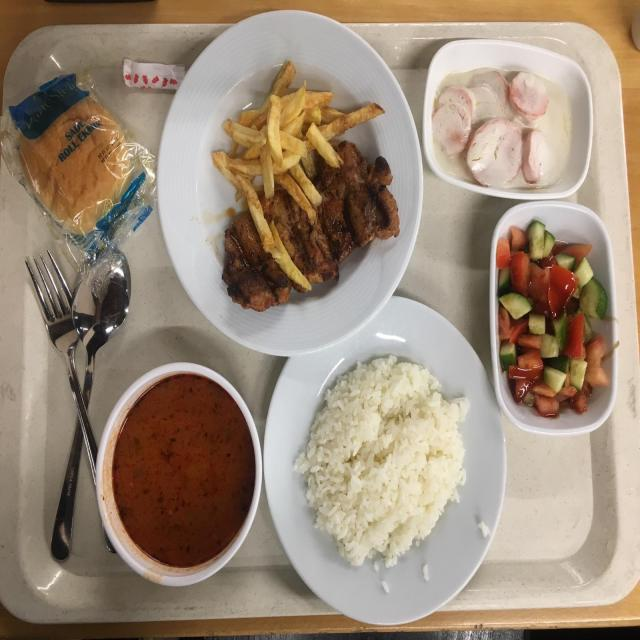ana_yemek: (157, 7, 393, 355), (297, 297, 500, 622)
corba: (94, 361, 260, 586)
yan_yemek: (486, 202, 618, 435), (423, 39, 592, 202)
